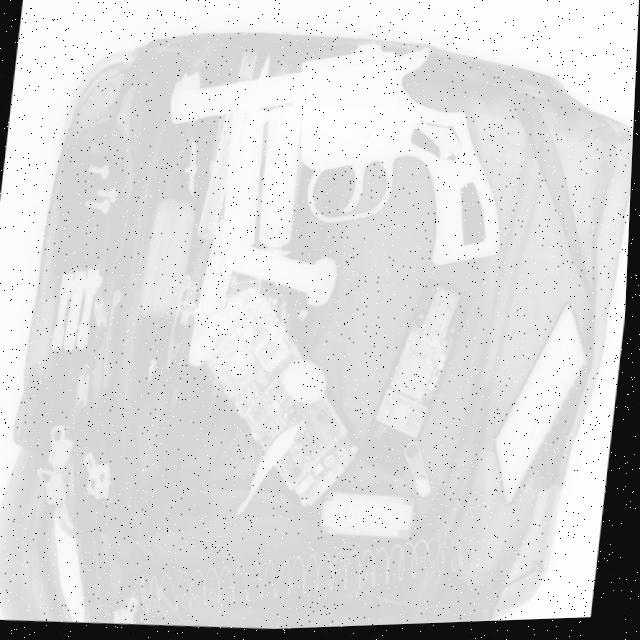pistol: (152, 26, 526, 284)
